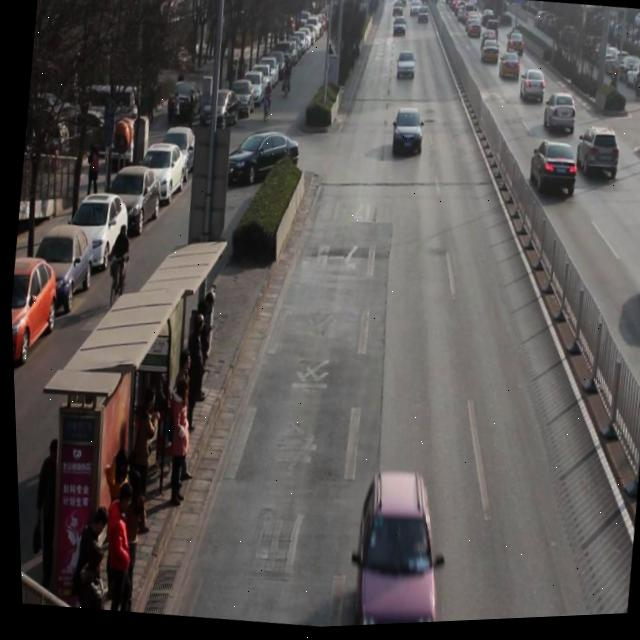car: (340, 468, 446, 629), (224, 126, 303, 195), (525, 140, 580, 205), (572, 126, 622, 185), (540, 91, 579, 142), (389, 108, 426, 161), (517, 69, 548, 109), (496, 50, 522, 85), (394, 51, 417, 85), (480, 37, 501, 67), (506, 30, 527, 60), (392, 17, 408, 42), (408, 0, 423, 21), (390, 0, 405, 19), (417, 8, 431, 27)
